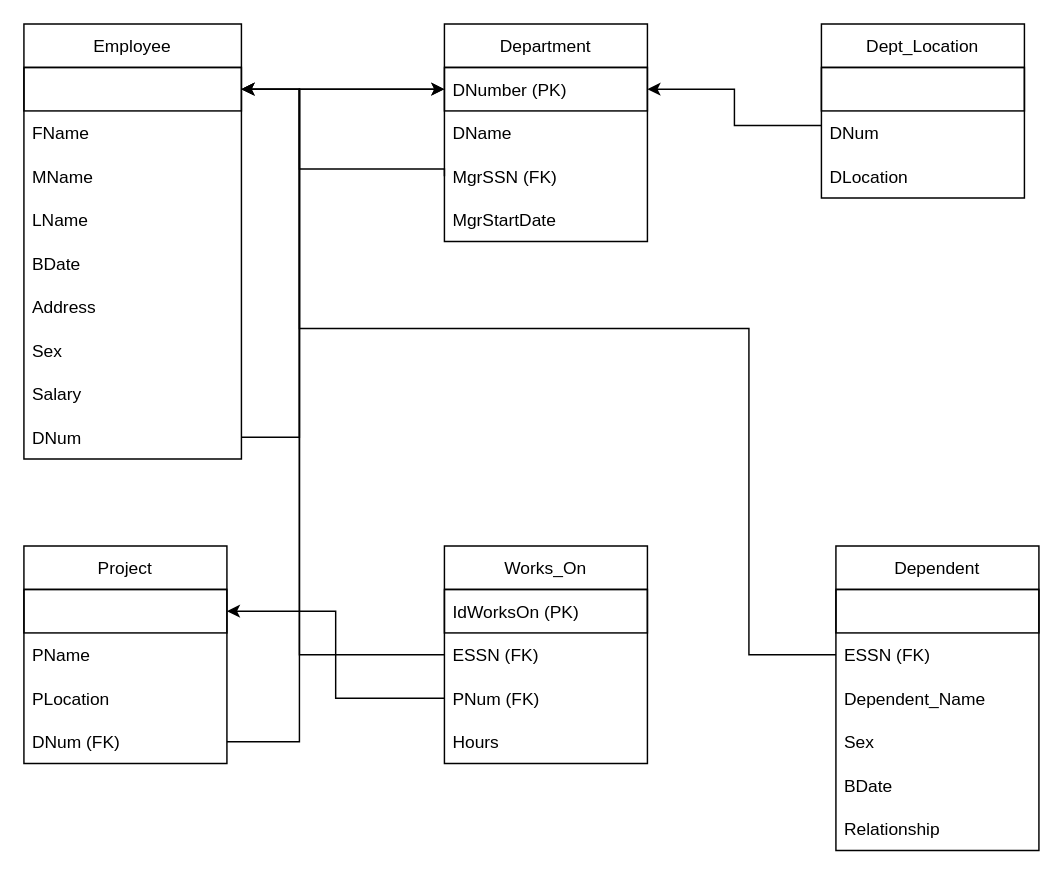
Some shapes in this 1063 by 874 pixel diagram are drawn without their labels. Here are the shapes that lost their labels. From the top down, the centre of each, then its label:
At (x=131, y=88): "SSN (PK)".
At (x=922, y=88): "IdDeptLoc (PK)".
At (x=124, y=610): "PNumber (PK)".
At (x=936, y=610): "IdDependent (PK)".
